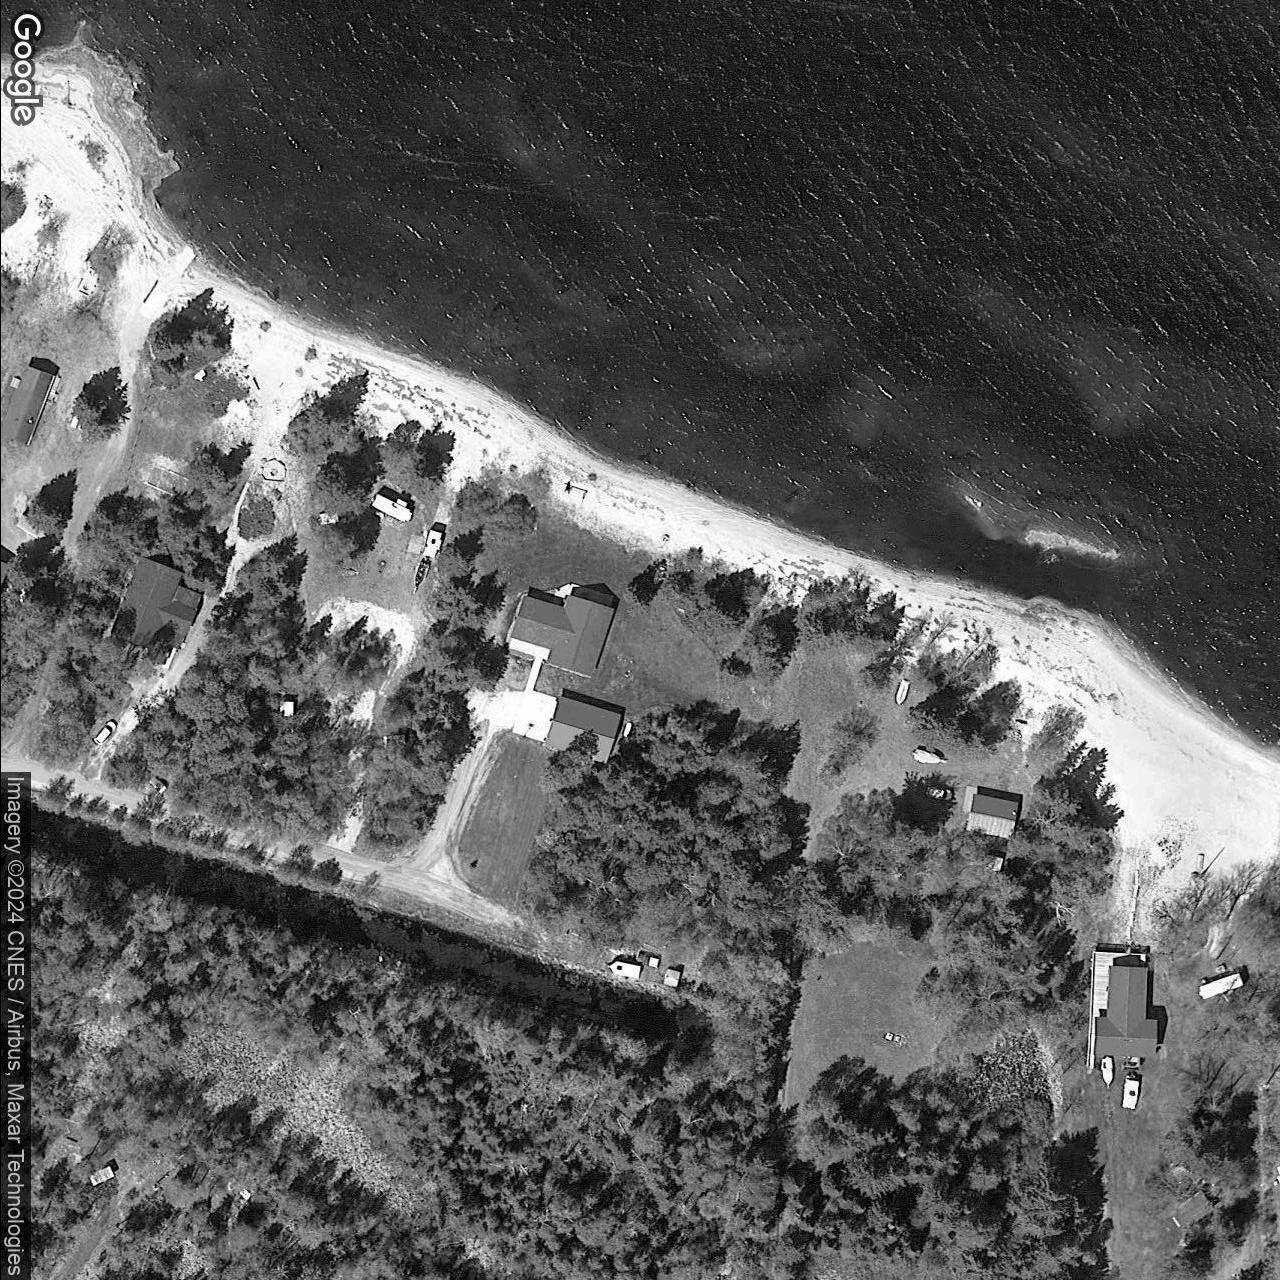Garage: (540, 696, 621, 765), (1172, 1190, 1214, 1228)
House: (509, 594, 615, 680), (109, 556, 197, 651), (1092, 965, 1157, 1058), (962, 792, 1019, 843)
Propane: (621, 720, 633, 738), (1169, 1214, 1180, 1228)
Trailer: (0, 365, 56, 447), (368, 493, 415, 526), (1196, 972, 1244, 1002), (421, 529, 442, 559)
